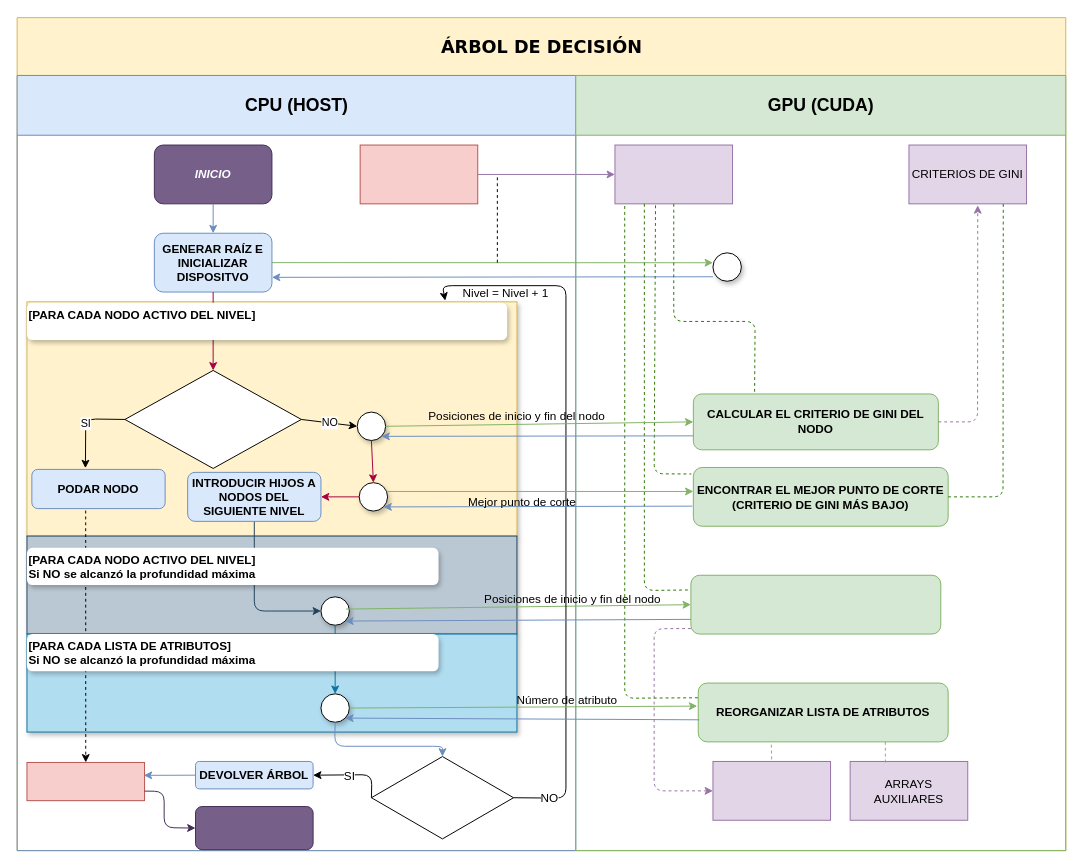
The diagram is 1083 pixels wide and 867 high, and some of its shapes have lost their labels. Here are the shapes that lost their labels. From the top down, the centre of each, then its label:
At pixel 418 174: "CONJUNTO DE DATOS EN DISCO DURO O RAM".
At pixel 673 174: "LISTAS DE ATRIBUTOS EN DRAM".
At pixel 212 418: "¿Se cumple algún criterio de poda?".
At pixel 815 604: "CÁLCULAR POSICIONES PARA REORGANIZAR LISTA DE ATRIBUTOS".
At pixel 85 781: "ÁRBOL".
At pixel 442 797: "¿Último nivel?".
At pixel 771 790: "POSICIONES".
At pixel 254 828: "FIN".
